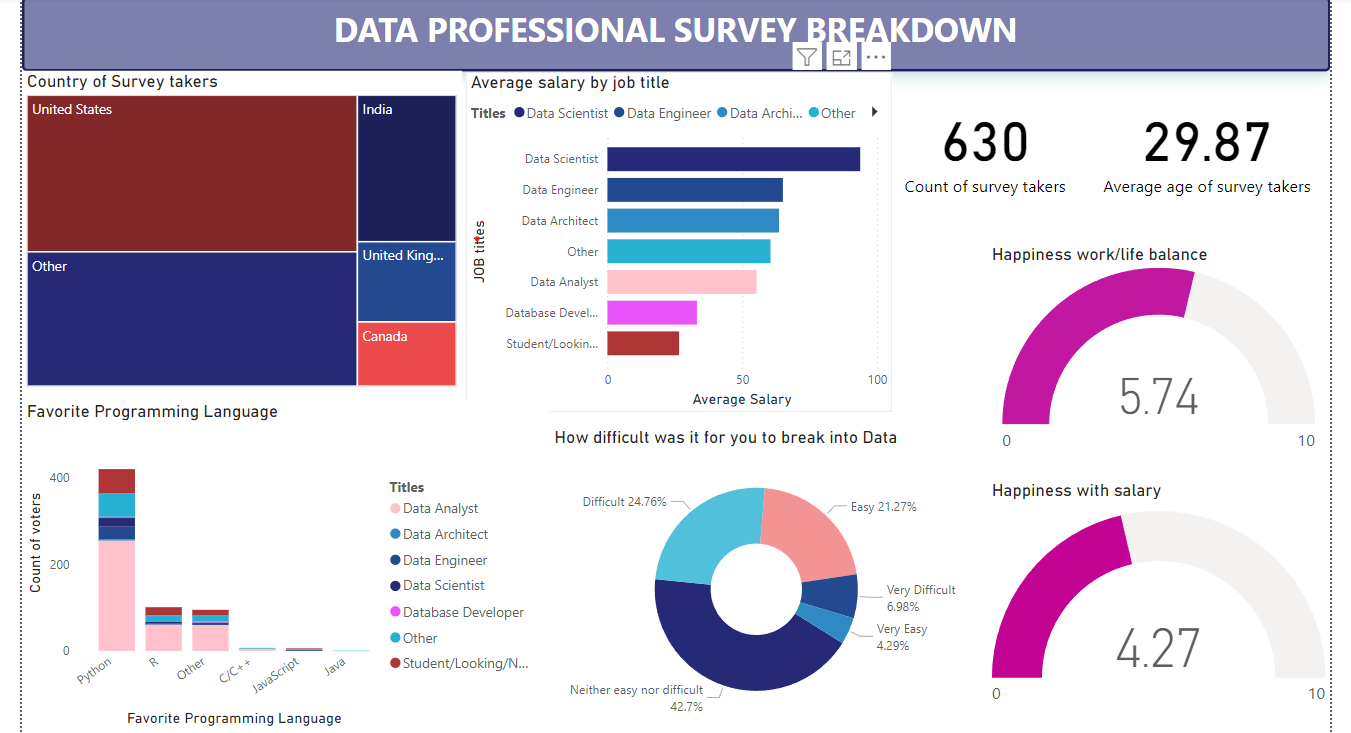

The page's visual inventory and layout, read from the dashboard file:
{"tool":"powerbi","page":{"name":"Page 1","canvas":[1280,720],"ordinal":0},"visuals":[{"type":"textbox","box":[0,0,1280,72.5],"z":0},{"type":"card","fields":{"Values":["Count(Data Professional Survey.Unique ID)"]},"box":[846.2,73.8,192.5,145],"z":1000},{"type":"card","fields":{"Values":["Avg(Data Professional Survey.Q10 - Current Age)"]},"box":[1040,73.8,240,145],"z":2000},{"type":"barChart","title":"Average salary by job title","fields":{"Category":["Data Professional Survey.Q1 - Which Title Best Fits your Current Role?.1"],"Y":["Avg(Data Professional Survey.average_salary)"],"Series":["Data Professional Survey.Q1 - Which Title Best Fits your Current Role?.1"]},"box":[433.8,73.8,417.5,332.5],"z":3000},{"type":"columnChart","title":"Favorite Programming Language","fields":{"Category":["Data Professional Survey.Q5 - Favorite Programming Language.1"],"Y":["CountNonNull(Data Professional Survey.Unique ID)"],"Series":["Data Professional Survey.Q1 - Which Title Best Fits your Current Role?.1"]},"box":[0,395,516.2,323.8],"z":4000},{"type":"gauge","title":"Happiness work/life balance","fields":{"Y":["Avg(Data Professional Survey.Q6 - How Happy are you in your Current Position with the following? (Work/Life Balance))"],"MinValue":["Min(Data Professional Survey.Q6 - How Happy are you in your Current Position with the following? (Work/Life Balance))"],"MaxValue":["Max(Data Professional Survey.Q6 - How Happy are you in your Current Position with the following? (Work/Life Balance))"]},"box":[943.8,241.2,336.2,213.8],"z":5000},{"type":"gauge","title":"Happiness with salary","fields":{"Y":["Avg(Data Professional Survey.Q6 - How Happy are you in your Current Position with the following? (Salary))"],"MinValue":["Min(Data Professional Survey.Q6 - How Happy are you in your Current Position with the following? (Salary))"],"MaxValue":["Max(Data Professional Survey.Q6 - How Happy are you in your Current Position with the following? (Salary))"]},"box":[943.8,472.5,336.2,237.5],"z":6000},{"type":"donutChart","title":"How difficult was it for you to break into Data","fields":{"Category":["Data Professional Survey.Q7 - How difficult was it for you to break into Data?"],"Y":["CountNonNull(Data Professional Survey.Q7 - How difficult was it for you to break into Data?)"]},"box":[516.2,421.2,405,298.8],"z":7000},{"type":"treemap","title":"Country of Survey takers","fields":{"Values":["CountNonNull(Data Professional Survey.Q11 - Which Country do you live in?.1)"],"Group":["Data Professional Survey.Q11 - Which Country do you live in?.1"]},"box":[0,72.5,430,313.8],"z":8000}]}

Visuals, with their boxes on the page's 1280x720 design canvas (x1, y1, x2, y2). These are canvas units, not pixel positions in the 1351x733 screenshot, which may show the page scaled, cropped or inside an application window:
textbox: <region>0, 0, 1280, 72</region>
card - Count(Data Professional Survey.Unique ID): <region>846, 74, 1039, 219</region>
card - Avg(Data Professional Survey.Q10 - Current Age): <region>1040, 74, 1280, 219</region>
"Average salary by job title" barChart: <region>434, 74, 851, 406</region>
"Favorite Programming Language" columnChart: <region>0, 395, 516, 719</region>
"Happiness work/life balance" gauge: <region>944, 241, 1280, 455</region>
"Happiness with salary" gauge: <region>944, 472, 1280, 710</region>
"How difficult was it for you to break into Data" donutChart: <region>516, 421, 921, 720</region>
"Country of Survey takers" treemap: <region>0, 72, 430, 386</region>
